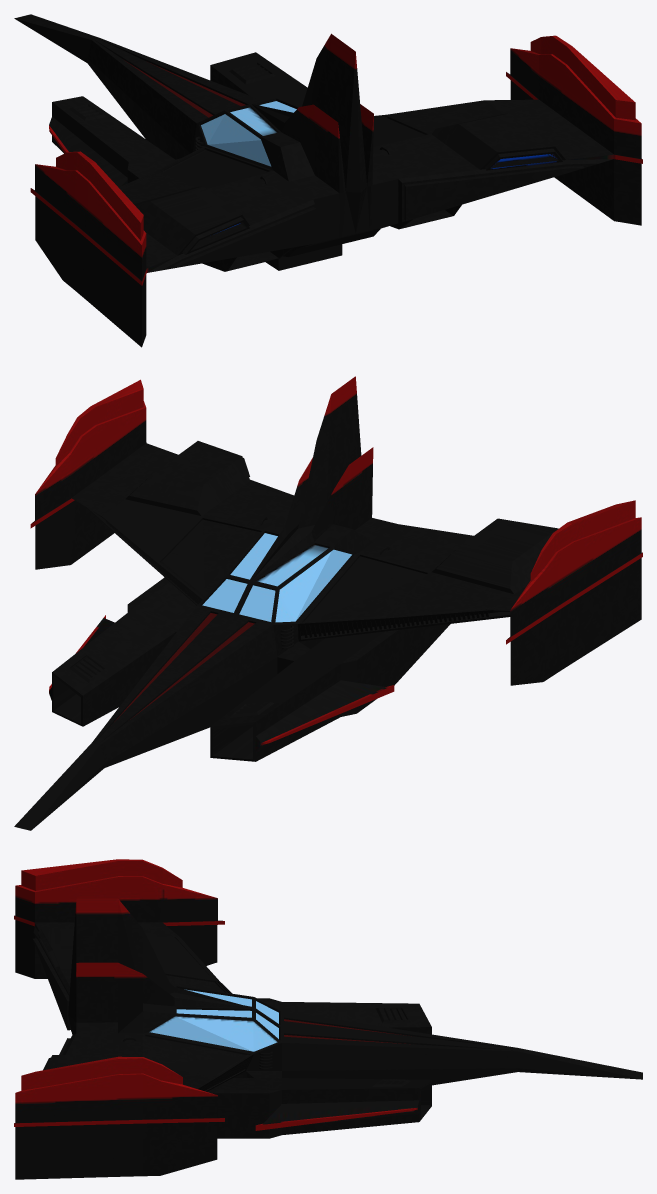
The model's file is fighter.dae.
The picture shows the model from 3 angles, top to bottom: view 1: azimuth 30°, elevation 25°; view 2: azimuth 150°, elevation 25°; view 3: azimuth 270°, elevation 25°; orthographic projection. The views are drawn at different scales.
Visible parts, largest first — view 1: Cube; view 2: Cube; view 3: Cube.
Boxes of the visible parts, x1=… form: Cube: x1=14, y1=14, x2=642, y2=347; Cube: x1=14, y1=376, x2=642, y2=830; Cube: x1=14, y1=859, x2=642, y2=1179.
Bounding box in the file's own units: 1180 × 559 × 1510.
1 material, 1 textured.
